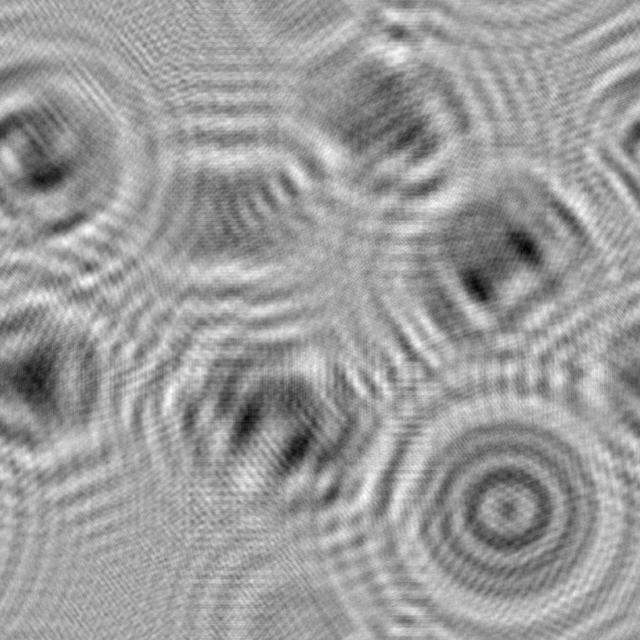A: (0, 250, 166, 514)
E: (360, 114, 640, 385)
I: (97, 100, 364, 311)
M: (113, 283, 413, 556)
O: (363, 360, 640, 640)
S: (0, 16, 170, 270)
Y: (273, 0, 503, 227)
